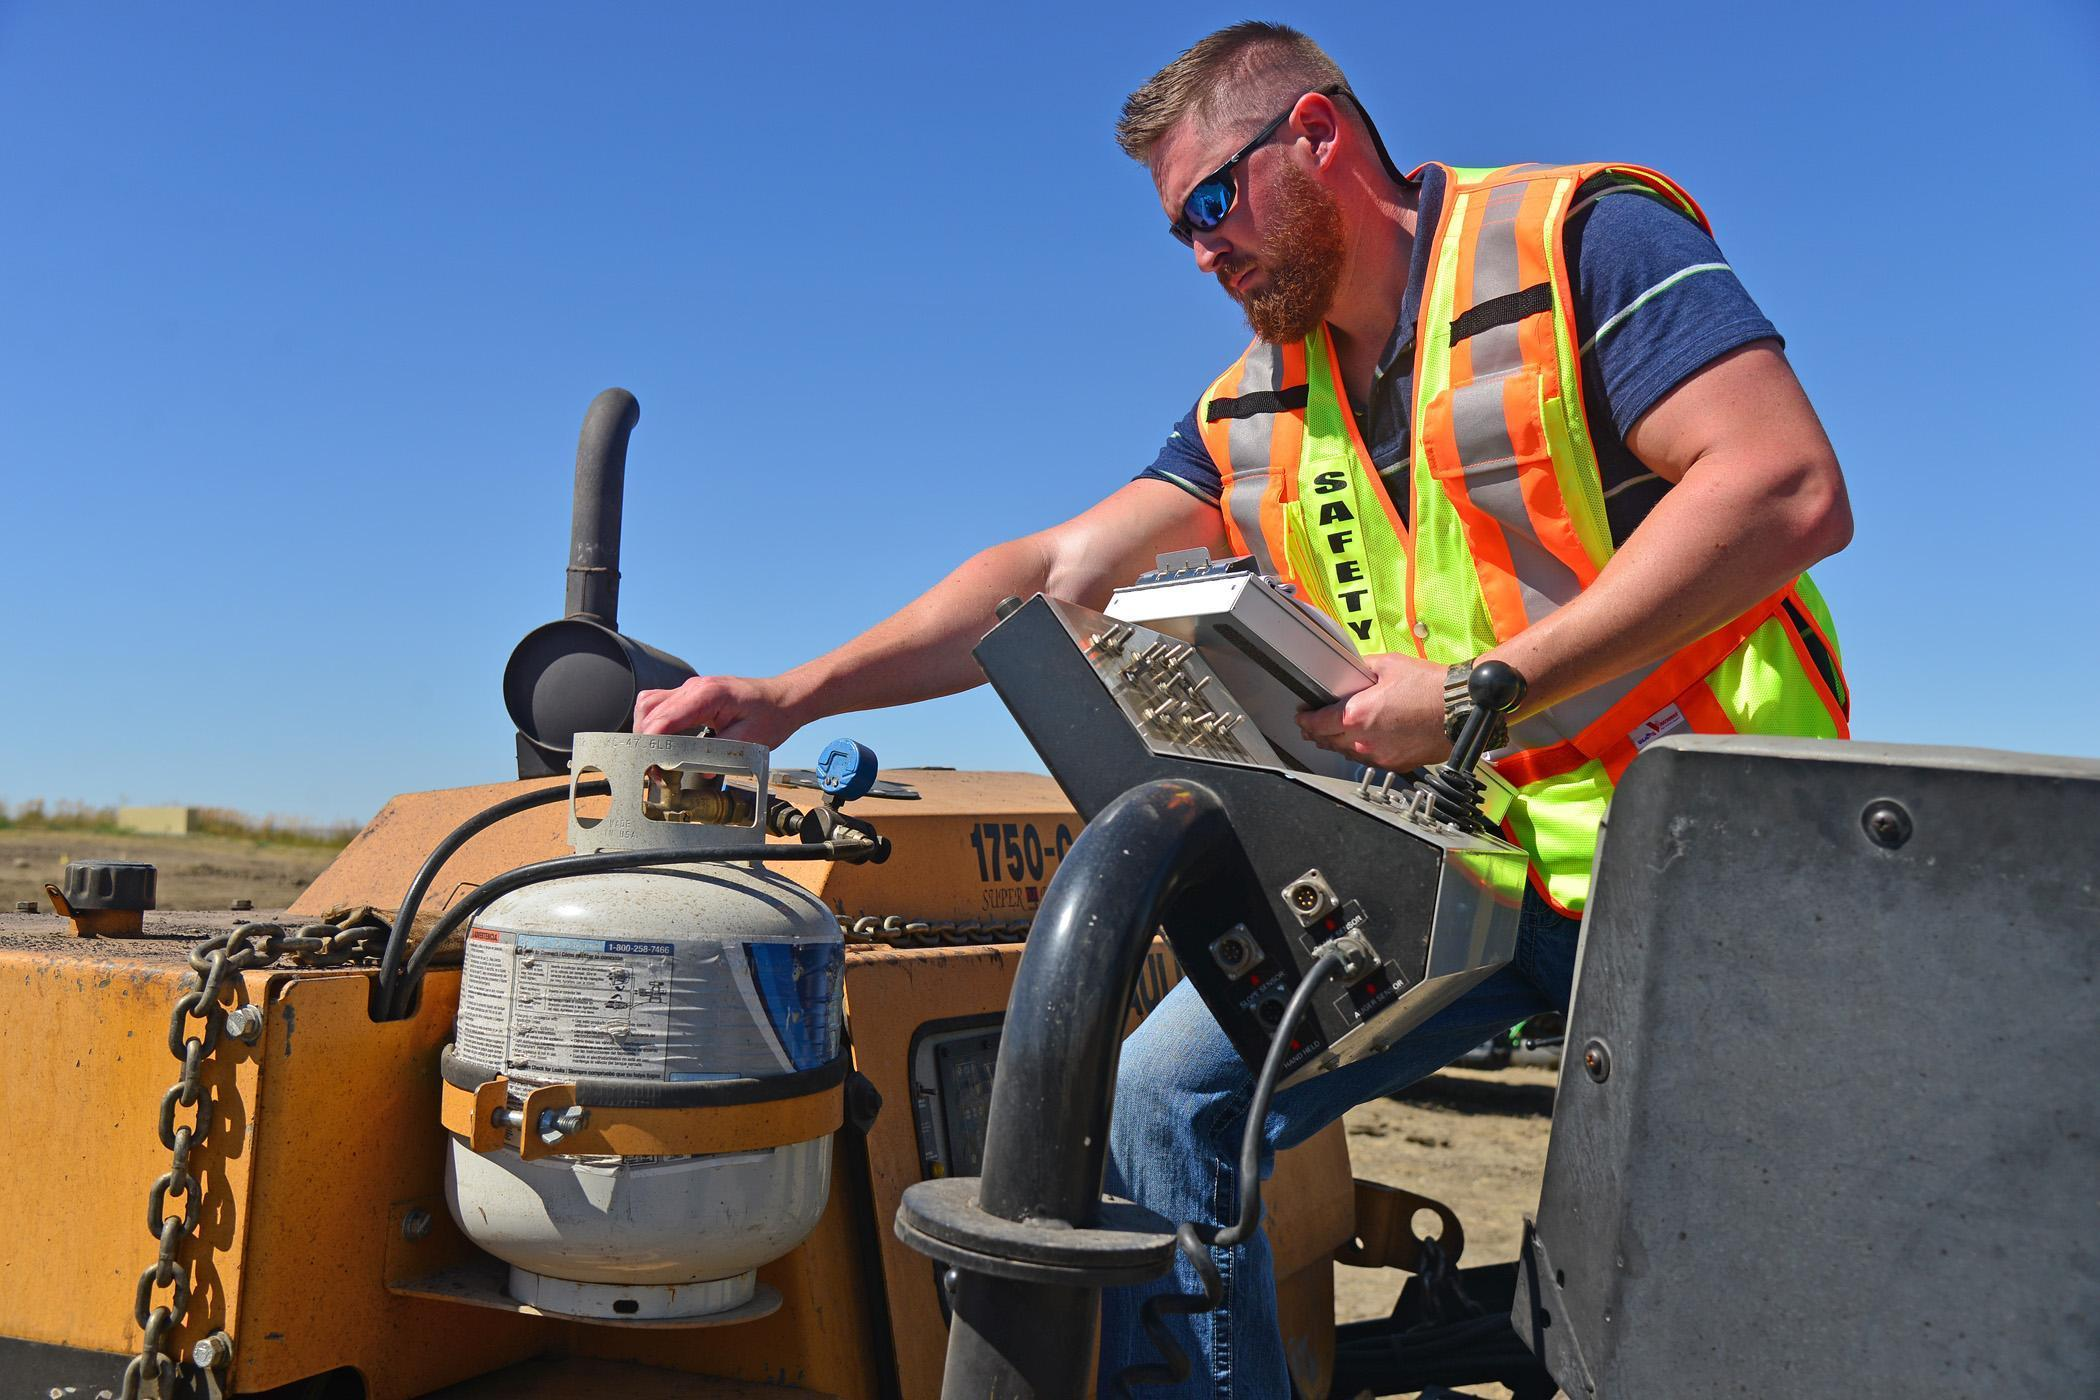vest: (1144, 142, 1844, 909)
